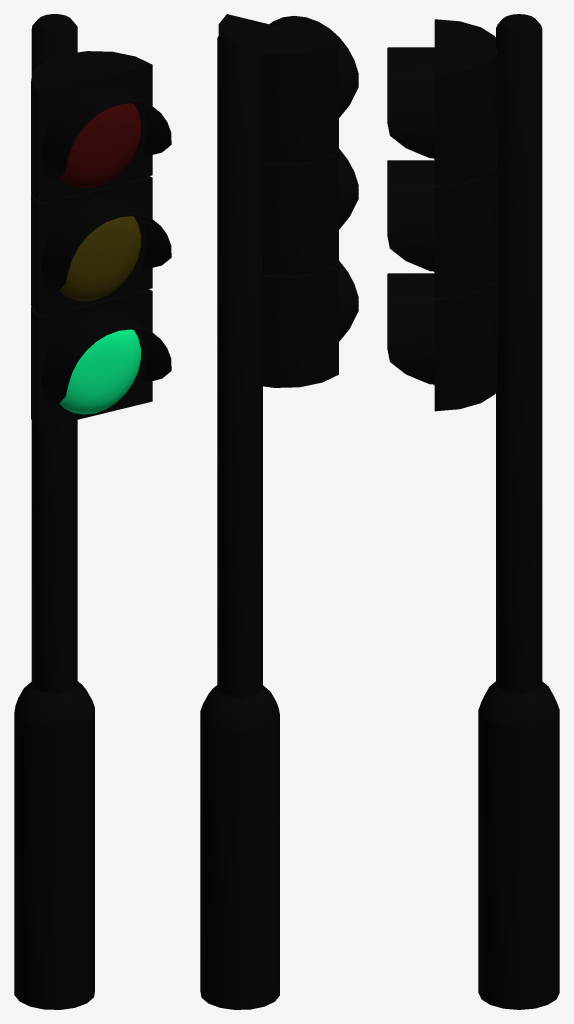
Rendered from traffic-light-green.glb.
3 renders of one model, left to right at view 1: azimuth 30°, elevation 25°; view 2: azimuth 150°, elevation 25°; view 3: azimuth 270°, elevation 25°, orthographic.
Parts seen in each view (by area): view 1: ampel, ampel.2, ampel.1, ampel.3; view 2: ampel; view 3: ampel.
Part boxes in pixels (x1,y1,x2,y2): ampel: (14,14,171,1009); ampel.2: (59,216,140,301); ampel.1: (59,103,140,188); ampel.3: (59,329,140,414); ampel: (200,14,358,1009); ampel: (387,14,559,1009).
Size of the model in its own units: 0.7322 by 5.99 by 0.9644.
